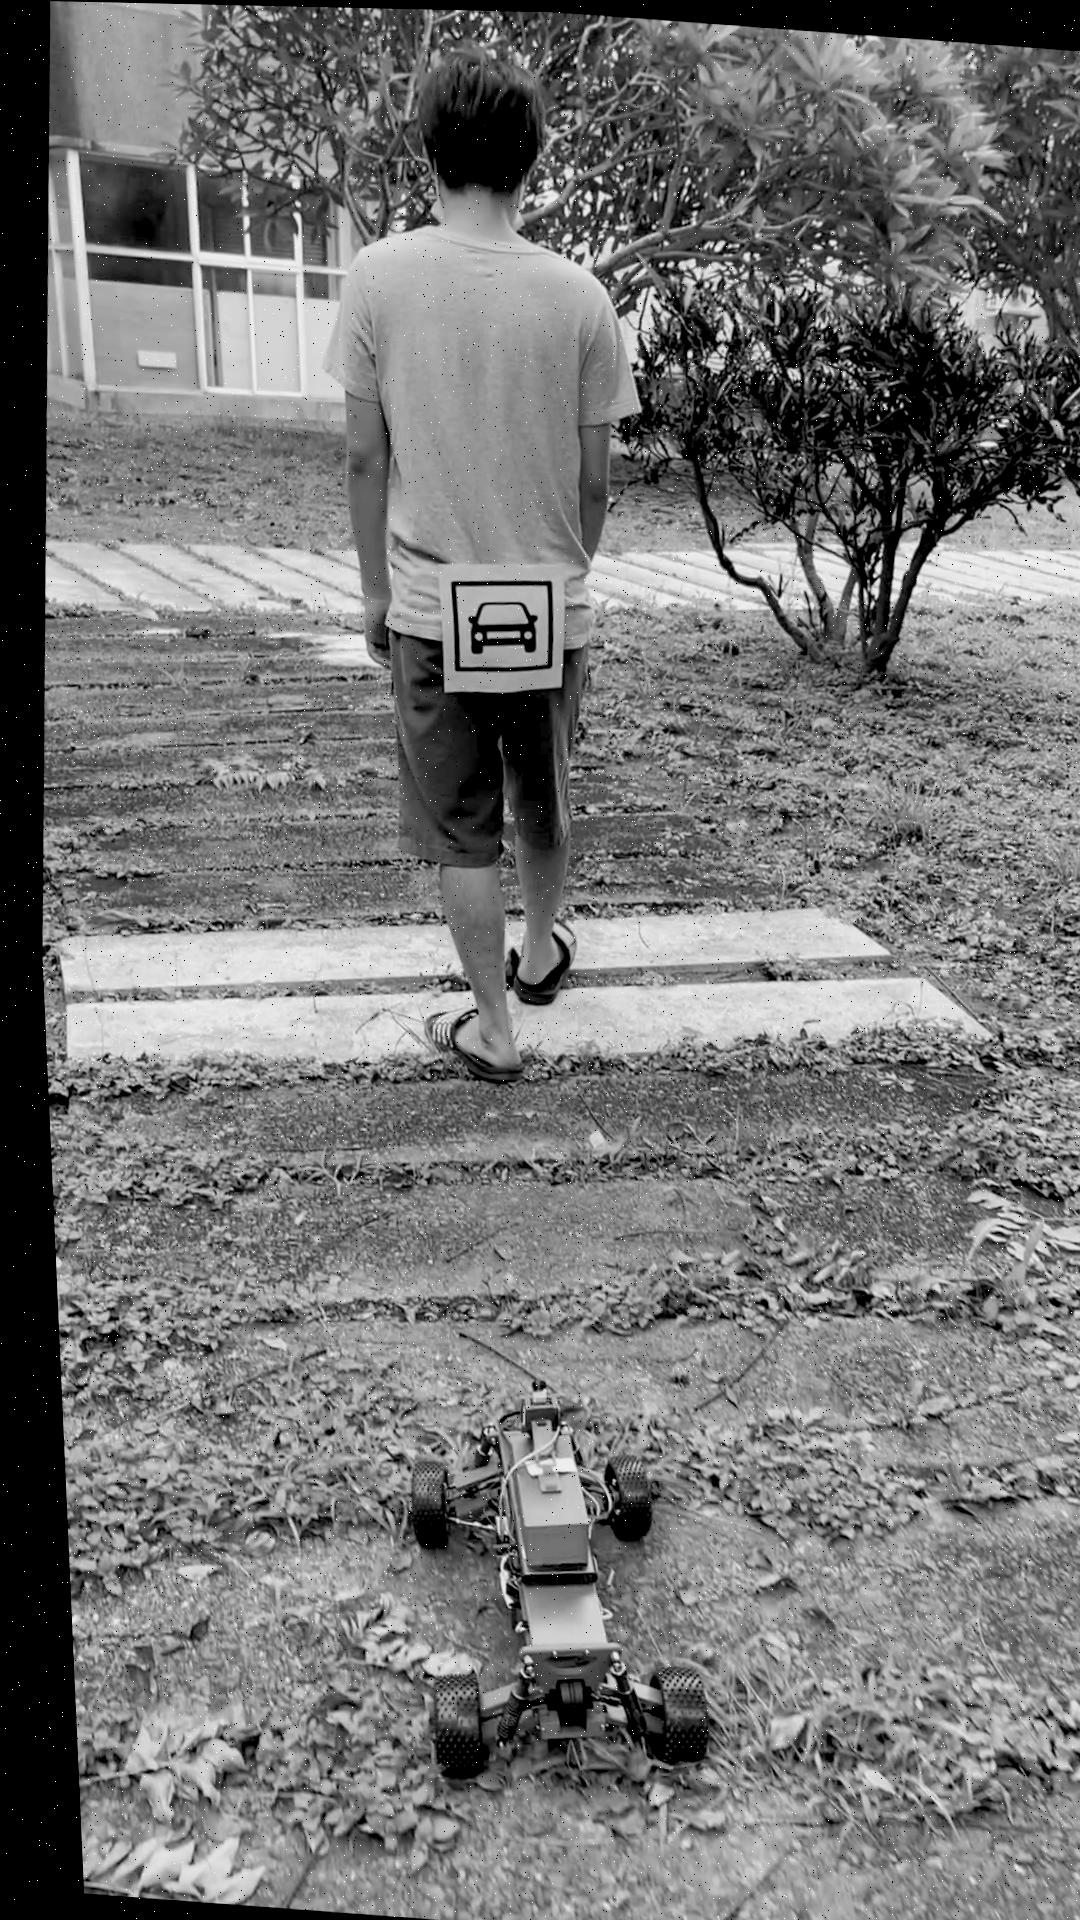car_img: (440, 570, 551, 676)
